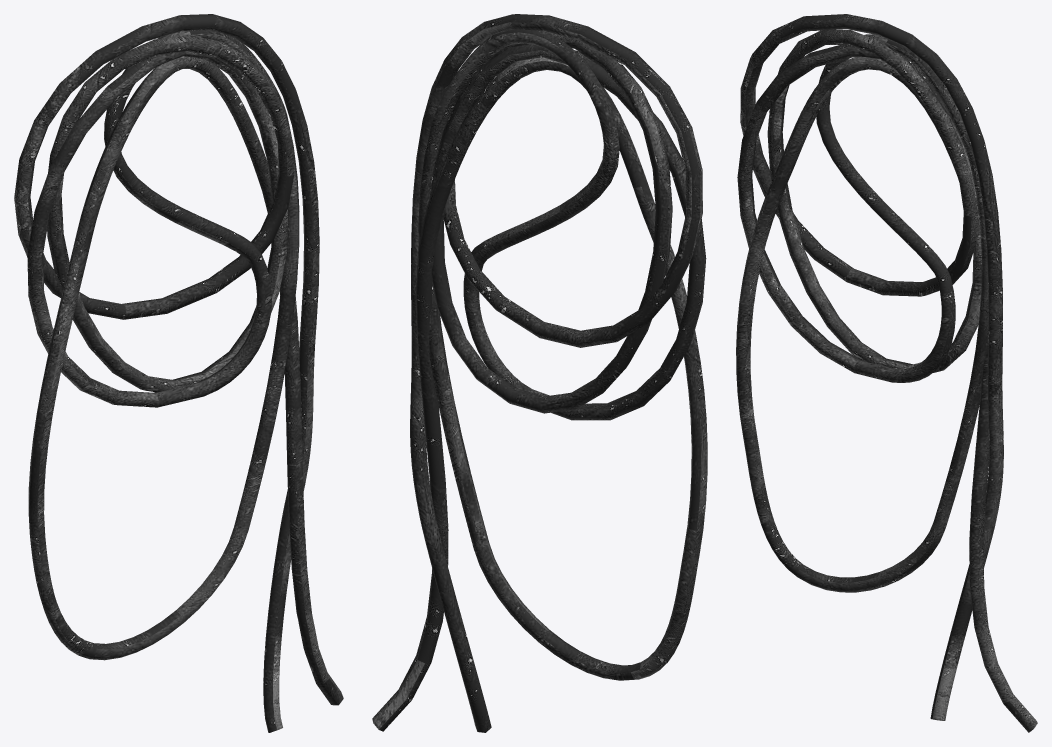
Rendered from Cable7.fbx.
3 renders of one model, left to right at view 1: azimuth 30°, elevation 25°; view 2: azimuth 150°, elevation 25°; view 3: azimuth 330°, elevation 25°, orthographic. The views are drawn at different scales.
Parts seen in each view (by area): view 1: Wire.003; view 2: Wire.003; view 3: Wire.003.
Boxes of the visible parts, x1,y1,x2,y2 form: Wire.003: [14, 14, 343, 732]; Wire.003: [372, 14, 707, 732]; Wire.003: [736, 14, 1037, 732].
Bounding box in the file's own units: 1330 × 2873 × 271.
